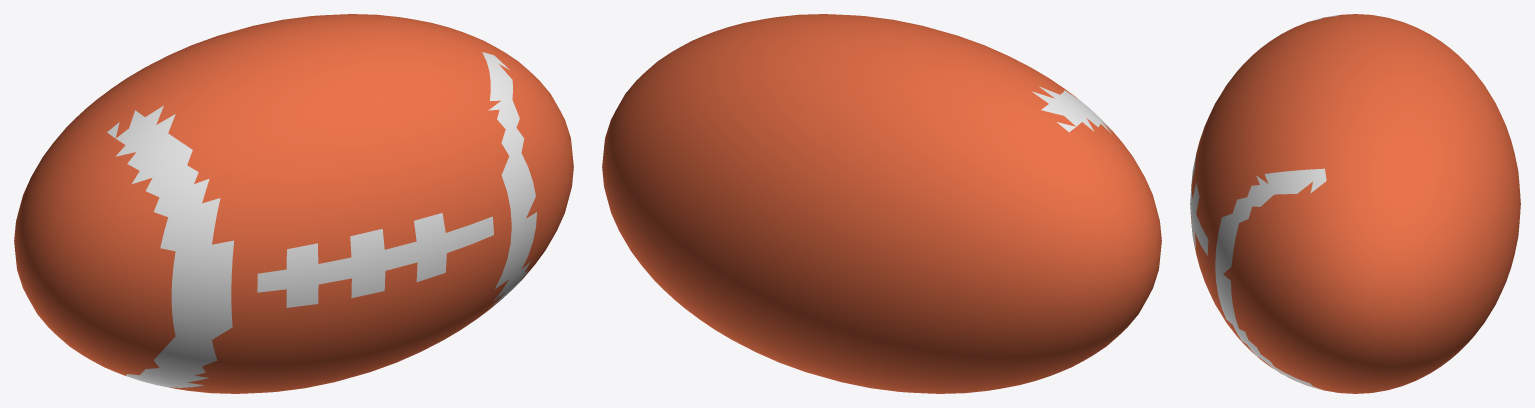
The model's file is Ball.fbx.
3 views of the same model, side by side, from view 1: azimuth 30°, elevation 25°; view 2: azimuth 150°, elevation 25°; view 3: azimuth 270°, elevation 25° (orthographic). The views are drawn at different scales.
Parts seen in each view (by area): view 1: mesh_id27; view 2: mesh_id27; view 3: mesh_id27.
Part boxes in pixels (left/top/right/bottom): mesh_id27: left=14, top=14, right=573, bottom=393; mesh_id27: left=602, top=14, right=1161, bottom=393; mesh_id27: left=1190, top=14, right=1520, bottom=393.
Bounding box in the file's own units: 23.82 × 14.26 × 14.26.
